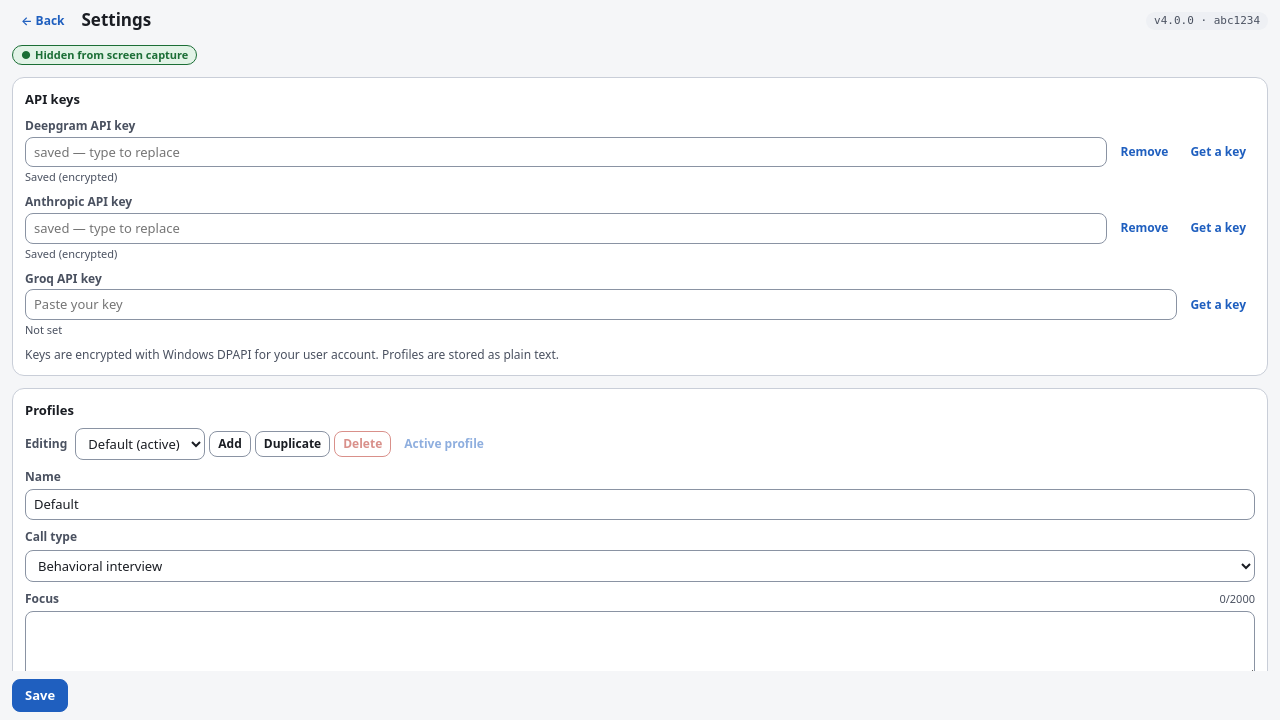
saving › other_failure_shows_message
Type "x" into the text box labelled "Focus" at (640, 645), box x1=25 y1=611 x2=1255 y2=679
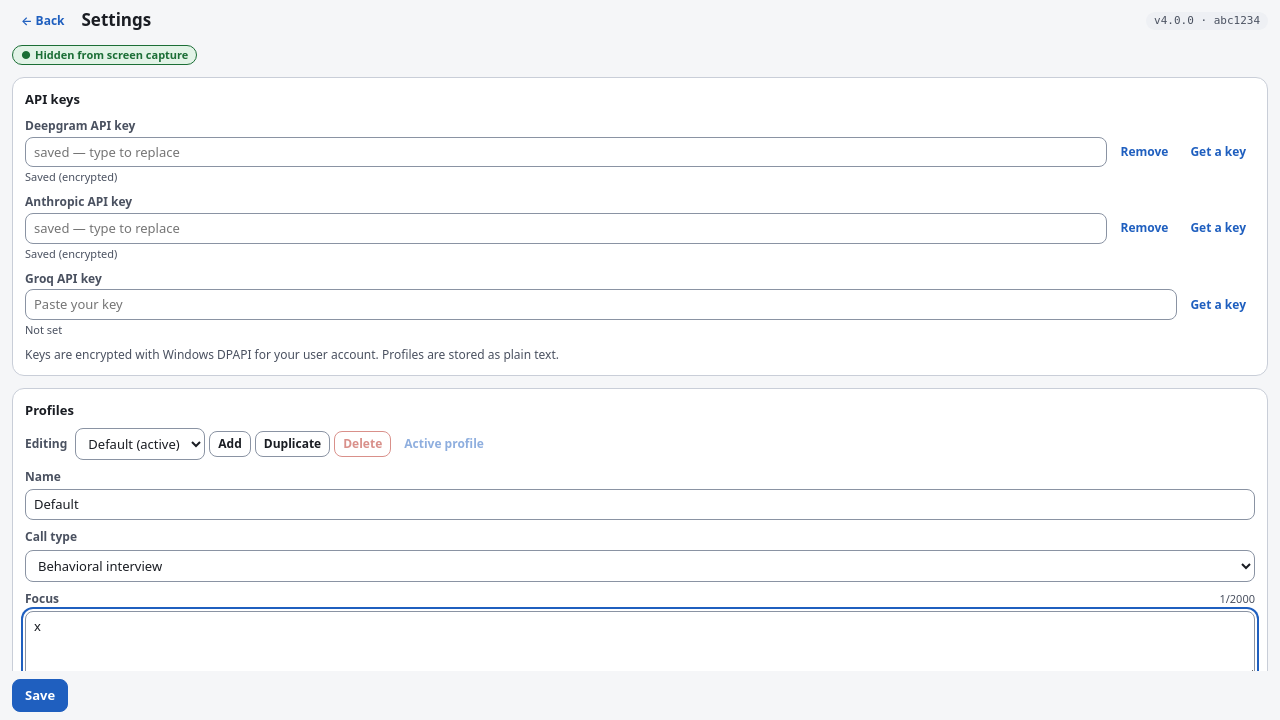
Click the button "Save" at (40, 696), box x1=12 y1=679 x2=68 y2=712
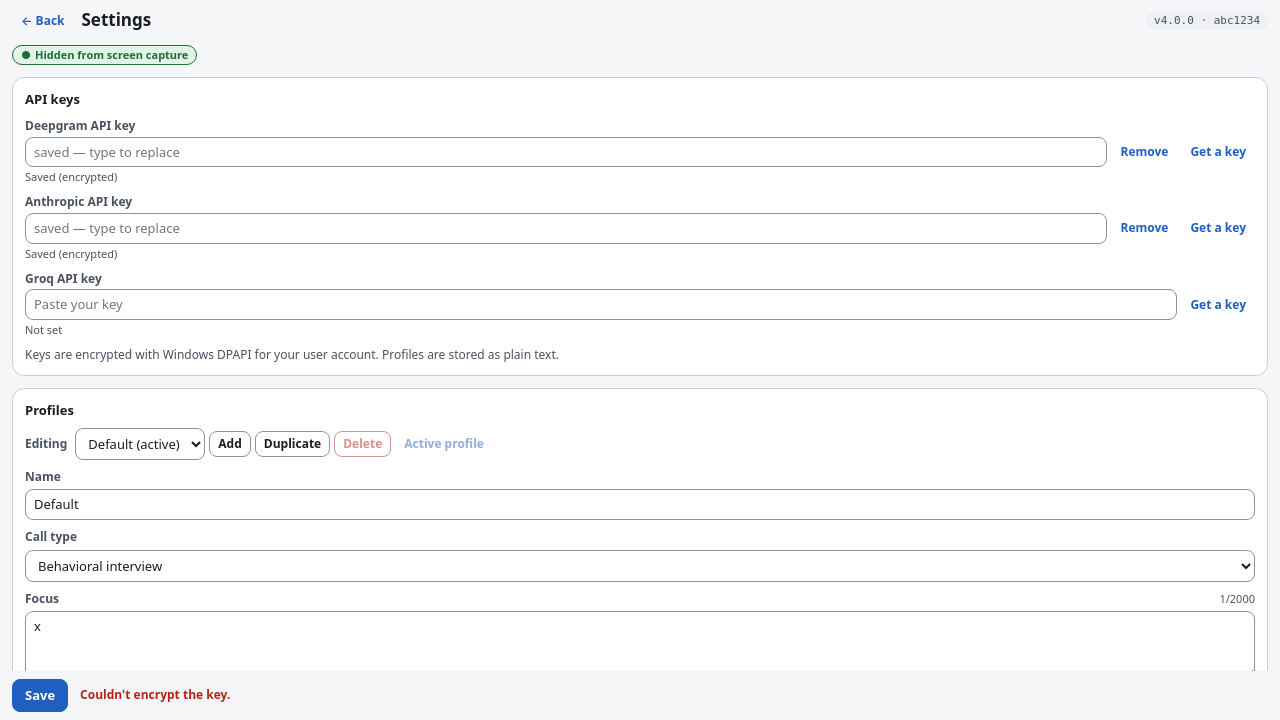
expect the message reads "Couldn't encrypt the key.": met, box x1=80 y1=687 x2=230 y2=704
